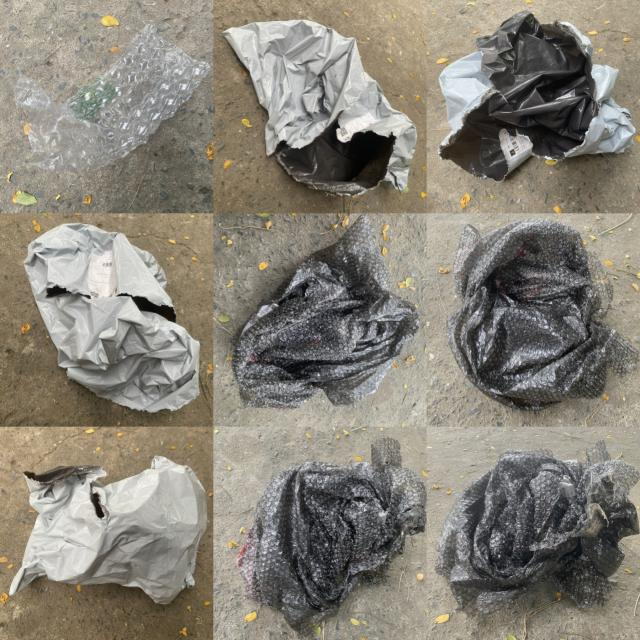Single-layer Plastic: (236, 436, 426, 632), (448, 219, 639, 410), (232, 215, 420, 408), (435, 441, 640, 613), (224, 20, 416, 195), (439, 11, 635, 181), (25, 224, 200, 412), (9, 456, 206, 604), (14, 25, 210, 173)
